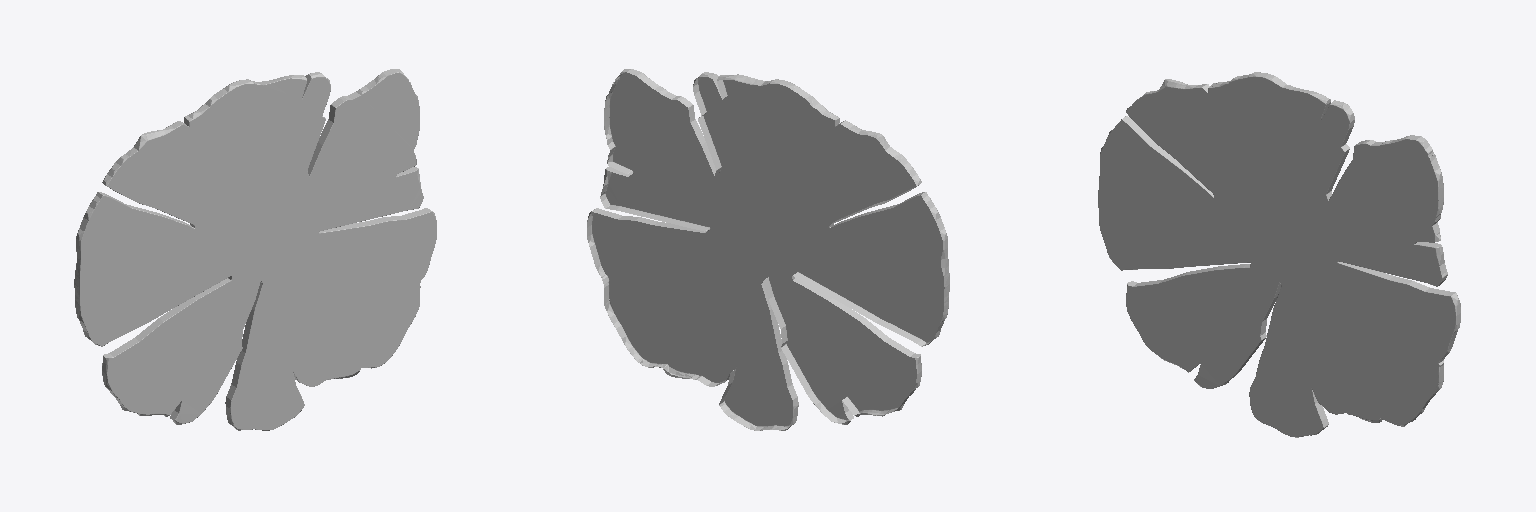
File: SetA_WallSymbol_Style_01.obj
3 renders of one model, left to right at view 1: azimuth 30°, elevation 25°; view 2: azimuth 150°, elevation 25°; view 3: azimuth 330°, elevation 25°, orthographic.
Visible parts, largest first — view 1: SetA_WallSymbol_Style_01; view 2: SetA_WallSymbol_Style_01; view 3: SetA_WallSymbol_Style_01.
Part boxes in pixels (x1,y1,x2,y2): SetA_WallSymbol_Style_01: (74, 69, 436, 430); SetA_WallSymbol_Style_01: (587, 69, 949, 430); SetA_WallSymbol_Style_01: (1098, 72, 1460, 437).
Size of the model in its own units: 0.7534 by 0.7132 by 0.0215.